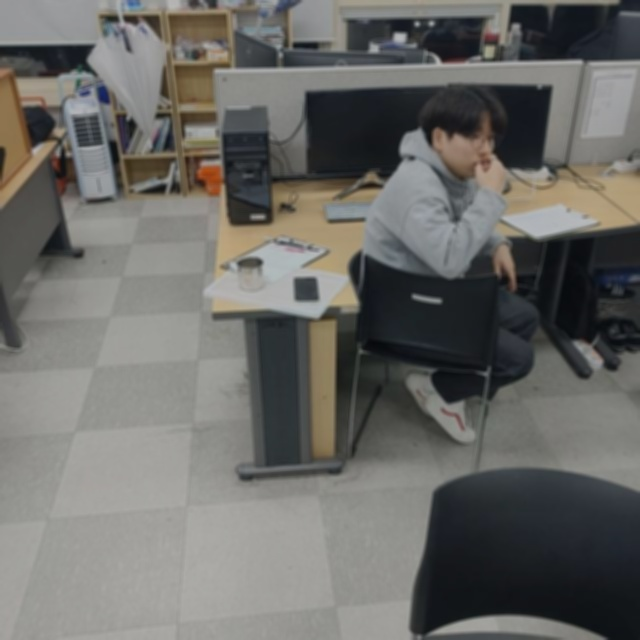cup: (220, 254, 266, 294)
phone: (292, 273, 319, 304)
